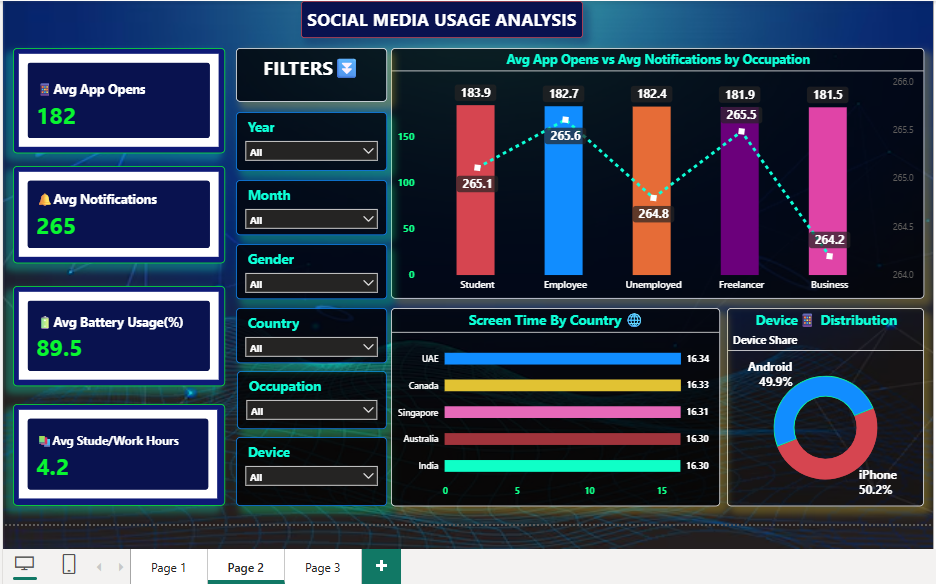

The dashboard page shown, as its layout file describes it:
{"tool":"powerbi","page":{"name":"Page 2","canvas":[1280,720],"ordinal":1},"visuals":[{"type":"textbox","box":[410.2,0,388.1,50.9],"z":0},{"type":"cardVisual","fields":{"Data":["Avg(SocialMedia.App_Opens)"]},"box":[13.8,64.7,291.8,144.5],"z":1000},{"type":"cardVisual","fields":{"Data":["Avg(SocialMedia.Notifications)"]},"box":[13.8,227.1,291.8,133.5],"z":2000},{"type":"cardVisual","fields":{"Data":["Avg(SocialMedia.Battery_Usage_%)"]},"box":[13.8,392.3,291.8,137.6],"z":3000},{"type":"cardVisual","fields":{"Data":["SocialMedia.Avg Stude/Work Time(Hours)"]},"box":[13.8,554.7,291.8,140.4],"z":4000},{"type":"donutChart","title":"Device📱 Distribution","fields":{"Category":["SocialMedia.Device"],"Y":["CountNonNull(SocialMedia.User_ID)"]},"box":[996.5,422.5,271.1,272.5],"z":5000},{"type":"lineClusteredColumnComboChart","title":"Avg App Opens vs Avg Notifications by Occupation","fields":{"Category":["SocialMedia.Occupation"],"Y":["Avg(SocialMedia.App_Opens)"],"Y2":["Avg(SocialMedia.Notifications)"]},"box":[534,64.7,733.6,345.5],"z":6000},{"type":"slicer","fields":{"Values":["SocialMedia.Occupation"]},"box":[322.1,509.2,206.5,79.8],"z":7000},{"type":"textbox","box":[320.7,64.7,207.8,74.3],"z":8000},{"type":"slicer","fields":{"Values":["SocialMedia.Year"]},"box":[320.7,152.8,207.8,81.2],"z":9000},{"type":"slicer","fields":{"Values":["SocialMedia.Month"]},"box":[320.7,246.4,207.8,75.7],"z":10000},{"type":"slicer","fields":{"Values":["SocialMedia.Gender"]},"box":[320.7,334.5,207.8,75.7],"z":11000},{"type":"slicer","fields":{"Values":["SocialMedia.Country"]},"box":[320.7,422.5,207.8,75.7],"z":12000},{"type":"slicer","fields":{"Values":["SocialMedia.Device"]},"box":[320.7,600.1,207.8,95],"z":13000},{"type":"clusteredBarChart","title":"Screen Time By Country 🌐","fields":{"Category":["SocialMedia.Country"],"Y":["Avg(SocialMedia.Total_Screen_Time(Hours))"]},"box":[534,422.5,452.8,272.5],"z":14000}]}

Visuals, with their boxes on the page's 1280x720 design canvas (x1, y1, x2, y2). These are canvas units, not pixel positions in the 936x584 screenshot, which may show the page scaled, cropped or inside an application window:
textbox: pyautogui.locateOnScreen(410, 0, 798, 51)
cardVisual - Avg(SocialMedia.App_Opens): pyautogui.locateOnScreen(14, 65, 306, 209)
cardVisual - Avg(SocialMedia.Notifications): pyautogui.locateOnScreen(14, 227, 306, 361)
cardVisual - Avg(SocialMedia.Battery_Usage_%): pyautogui.locateOnScreen(14, 392, 306, 530)
cardVisual - SocialMedia.Avg Stude/Work Time(Hours): pyautogui.locateOnScreen(14, 555, 306, 695)
"Device📱 Distribution" donutChart: pyautogui.locateOnScreen(996, 422, 1268, 695)
"Avg App Opens vs Avg Notifications by Occupation" lineClusteredColumnComboChart: pyautogui.locateOnScreen(534, 65, 1268, 410)
slicer - SocialMedia.Occupation: pyautogui.locateOnScreen(322, 509, 529, 589)
textbox: pyautogui.locateOnScreen(321, 65, 528, 139)
slicer - SocialMedia.Year: pyautogui.locateOnScreen(321, 153, 528, 234)
slicer - SocialMedia.Month: pyautogui.locateOnScreen(321, 246, 528, 322)
slicer - SocialMedia.Gender: pyautogui.locateOnScreen(321, 334, 528, 410)
slicer - SocialMedia.Country: pyautogui.locateOnScreen(321, 422, 528, 498)
slicer - SocialMedia.Device: pyautogui.locateOnScreen(321, 600, 528, 695)
"Screen Time By Country 🌐" clusteredBarChart: pyautogui.locateOnScreen(534, 422, 987, 695)
